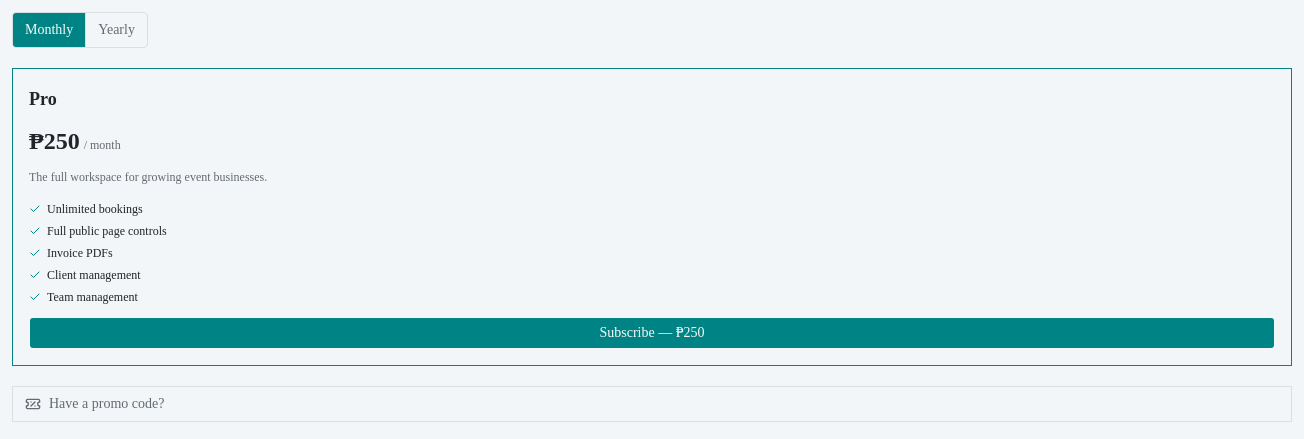
Scenario: SubscribePanel — renders › switches to yearly pricing when the cadence toggle is clicked
Click the tab "Yearly".
click(117, 30)  # box top-left (86, 13), bottom-right (147, 47)
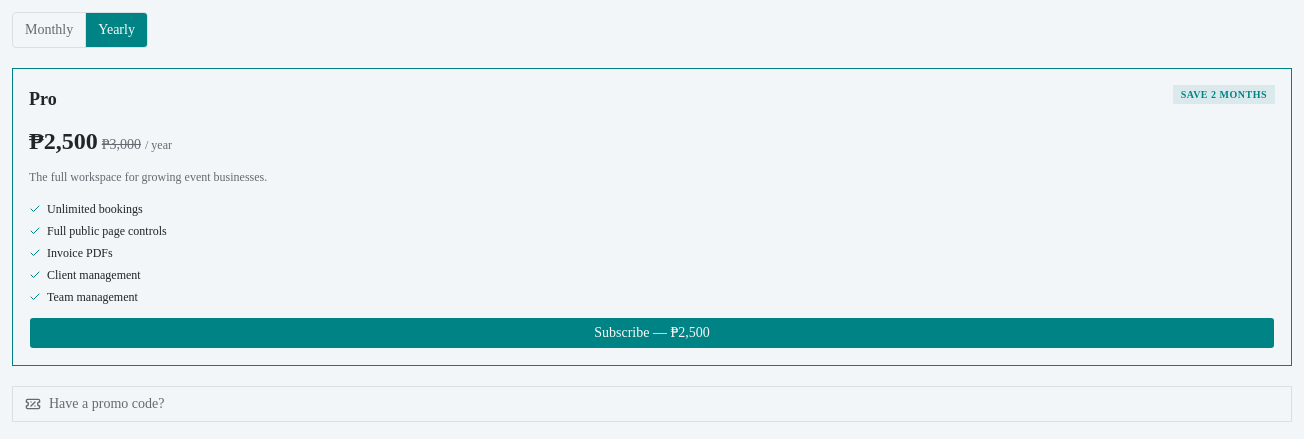
Now the text "/ year" is shown, box top-left (145, 137), bottom-right (172, 153)
Now the text "/ month" is gone
